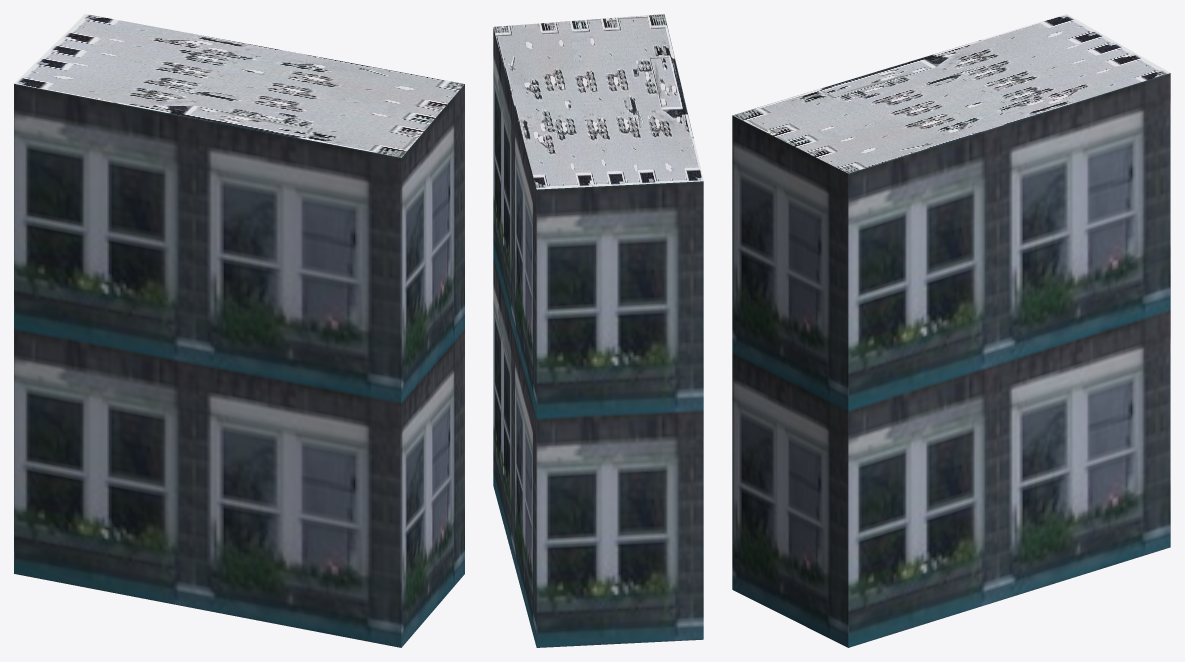
The model's file is ResTex__2372.fbx.
3 renders of one model, left to right at view 1: azimuth 30°, elevation 25°; view 2: azimuth 150°, elevation 25°; view 3: azimuth 270°, elevation 25°, orthographic. The views are drawn at different scales.
Parts seen in each view (by area): view 1: CityEngineMaterial_11_m, CityEngineMaterial_4_m; view 2: CityEngineMaterial_11_m, CityEngineMaterial_4_m; view 3: CityEngineMaterial_11_m, CityEngineMaterial_4_m.
Part boxes in pixels (left/top/right/bottom): CityEngineMaterial_11_m: left=14, top=84, right=464, bottom=647; CityEngineMaterial_4_m: left=14, top=14, right=464, bottom=157; CityEngineMaterial_11_m: left=493, top=28, right=703, bottom=647; CityEngineMaterial_4_m: left=493, top=14, right=703, bottom=189; CityEngineMaterial_11_m: left=732, top=73, right=1170, bottom=647; CityEngineMaterial_4_m: left=733, top=14, right=1169, bottom=173.
Size of the model in its own units: 4.33 by 6 by 5.03.
Materials: 2 (2 with a texture image).
